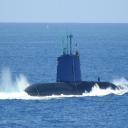submarine: (23, 27, 122, 98)
